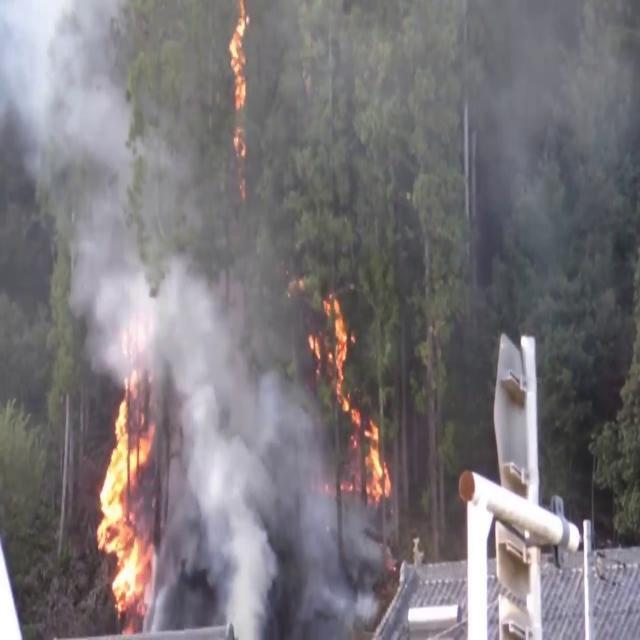Fire: (318, 286, 394, 514), (90, 387, 160, 630), (229, 0, 253, 201)
Smoke: (165, 219, 349, 625), (0, 1, 189, 385), (455, 0, 640, 366)
